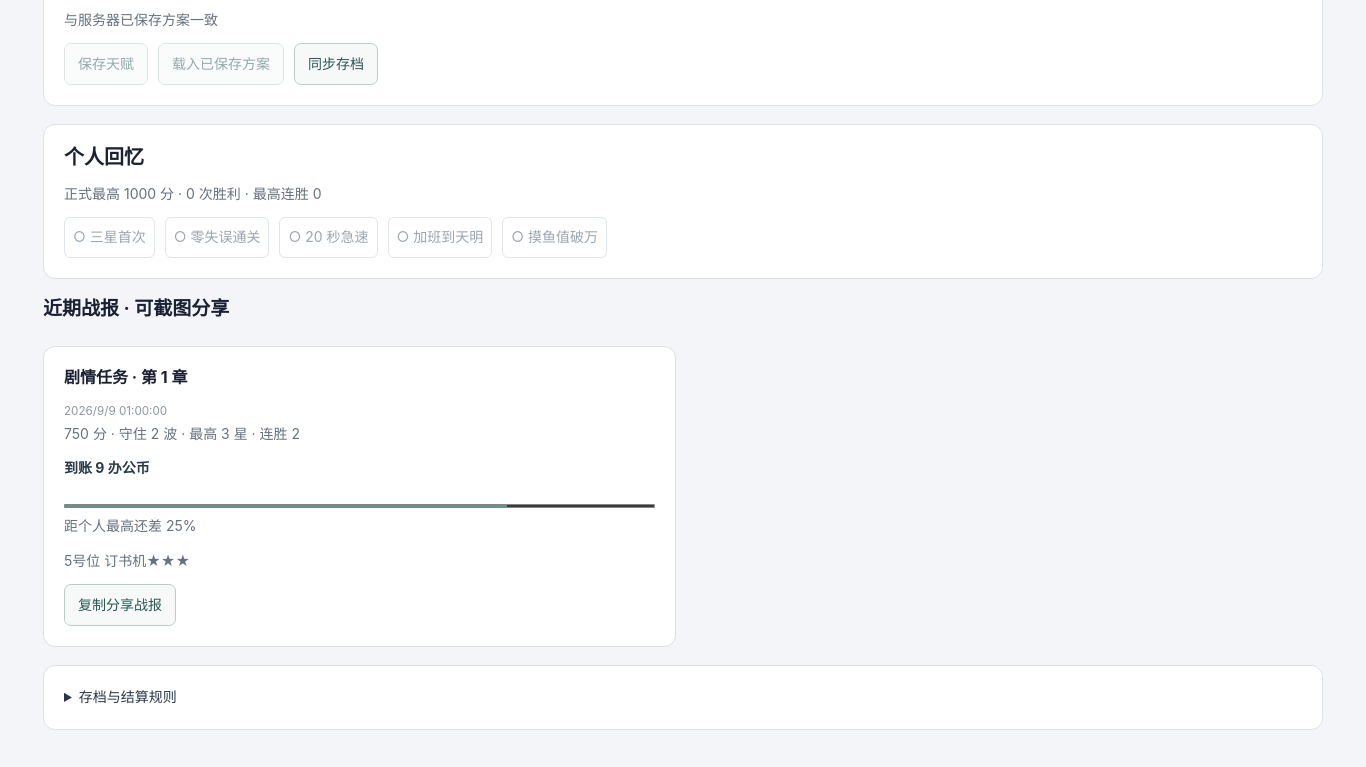
Test: account campaign interface › renders real report comparisons/formations and an explicit clipboard-unavailable fallback
(page scrolled)
Expected: the text "距个人最高还差 25%" is shown, x1=64 y1=517 x2=196 y2=534
Expected: the text "5号位 订书机★★★" is shown, x1=64 y1=552 x2=190 y2=569
What coordinates should you click on to do the following:
click the button "复制分享战报"
I would click on:
 (120, 605)
Its box is x1=64 y1=584 x2=176 y2=626.
(page scrolled)
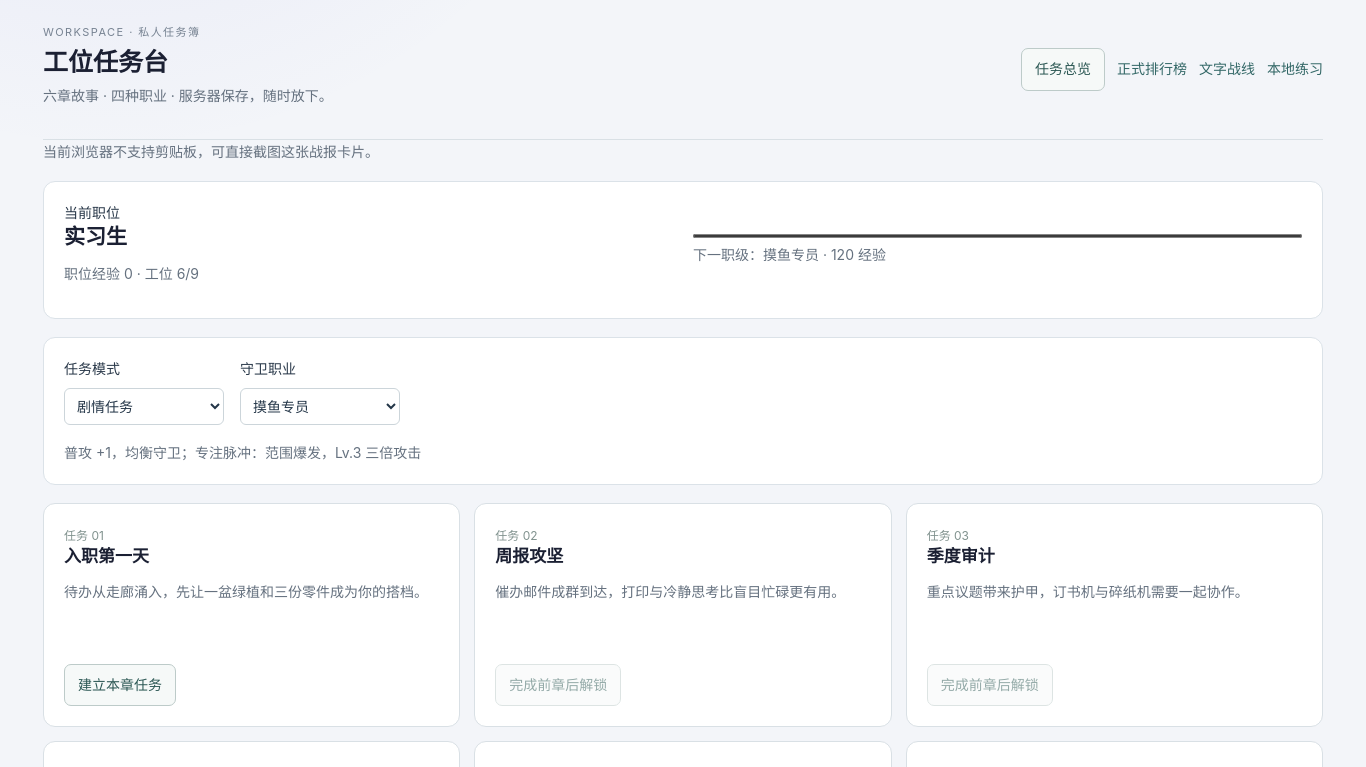
Now the text "当前浏览器不支持剪贴板，可直接截图这张战报卡片。" is shown, box x1=43 y1=143 x2=379 y2=160
